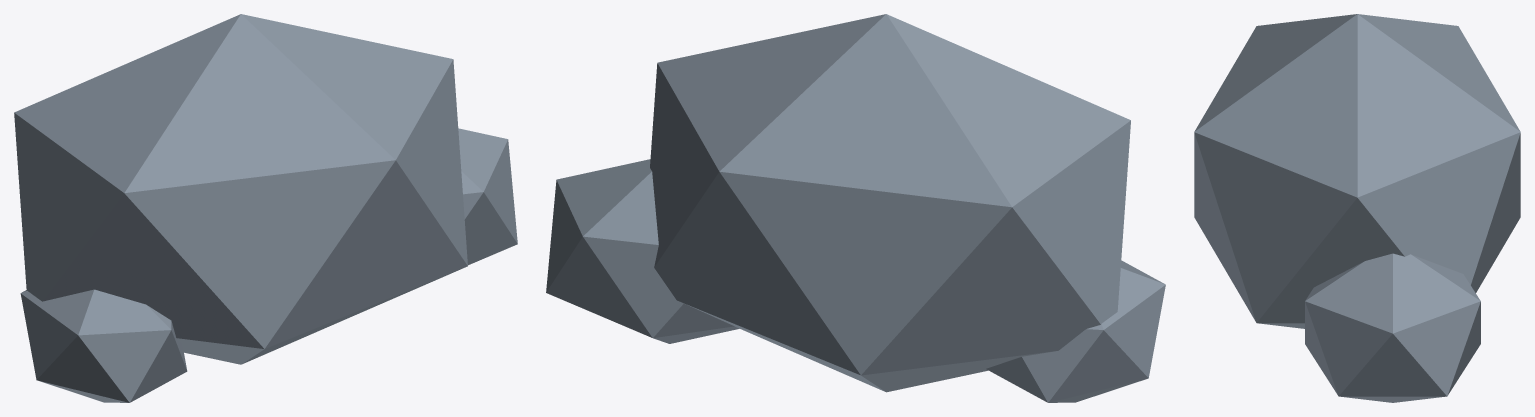
The model's file is SM_ENV_Rock_003_Cluster.glb.
3 renders of one model, left to right at view 1: azimuth 30°, elevation 25°; view 2: azimuth 150°, elevation 25°; view 3: azimuth 270°, elevation 25°, orthographic. The views are drawn at different scales.
Parts seen in each view (by area): view 1: SM_ENV_Rock_003_Cluster; view 2: SM_ENV_Rock_003_Cluster; view 3: SM_ENV_Rock_003_Cluster.
Part boxes in pixels (x1=…): SM_ENV_Rock_003_Cluster: x1=14, y1=14, x2=517, y2=402; SM_ENV_Rock_003_Cluster: x1=546, y1=14, x2=1165, y2=402; SM_ENV_Rock_003_Cluster: x1=1194, y1=14, x2=1520, y2=402.
Bounding box in the file's own units: 1.83 × 1.2 × 1.11.
